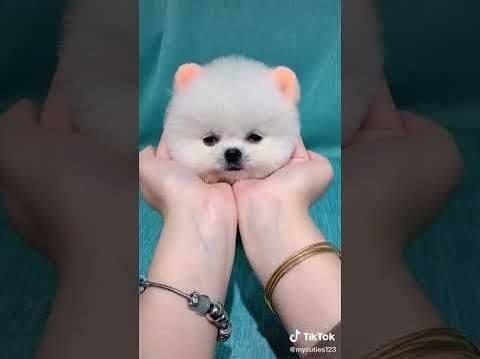puppy-dog: (163, 56, 304, 183)
